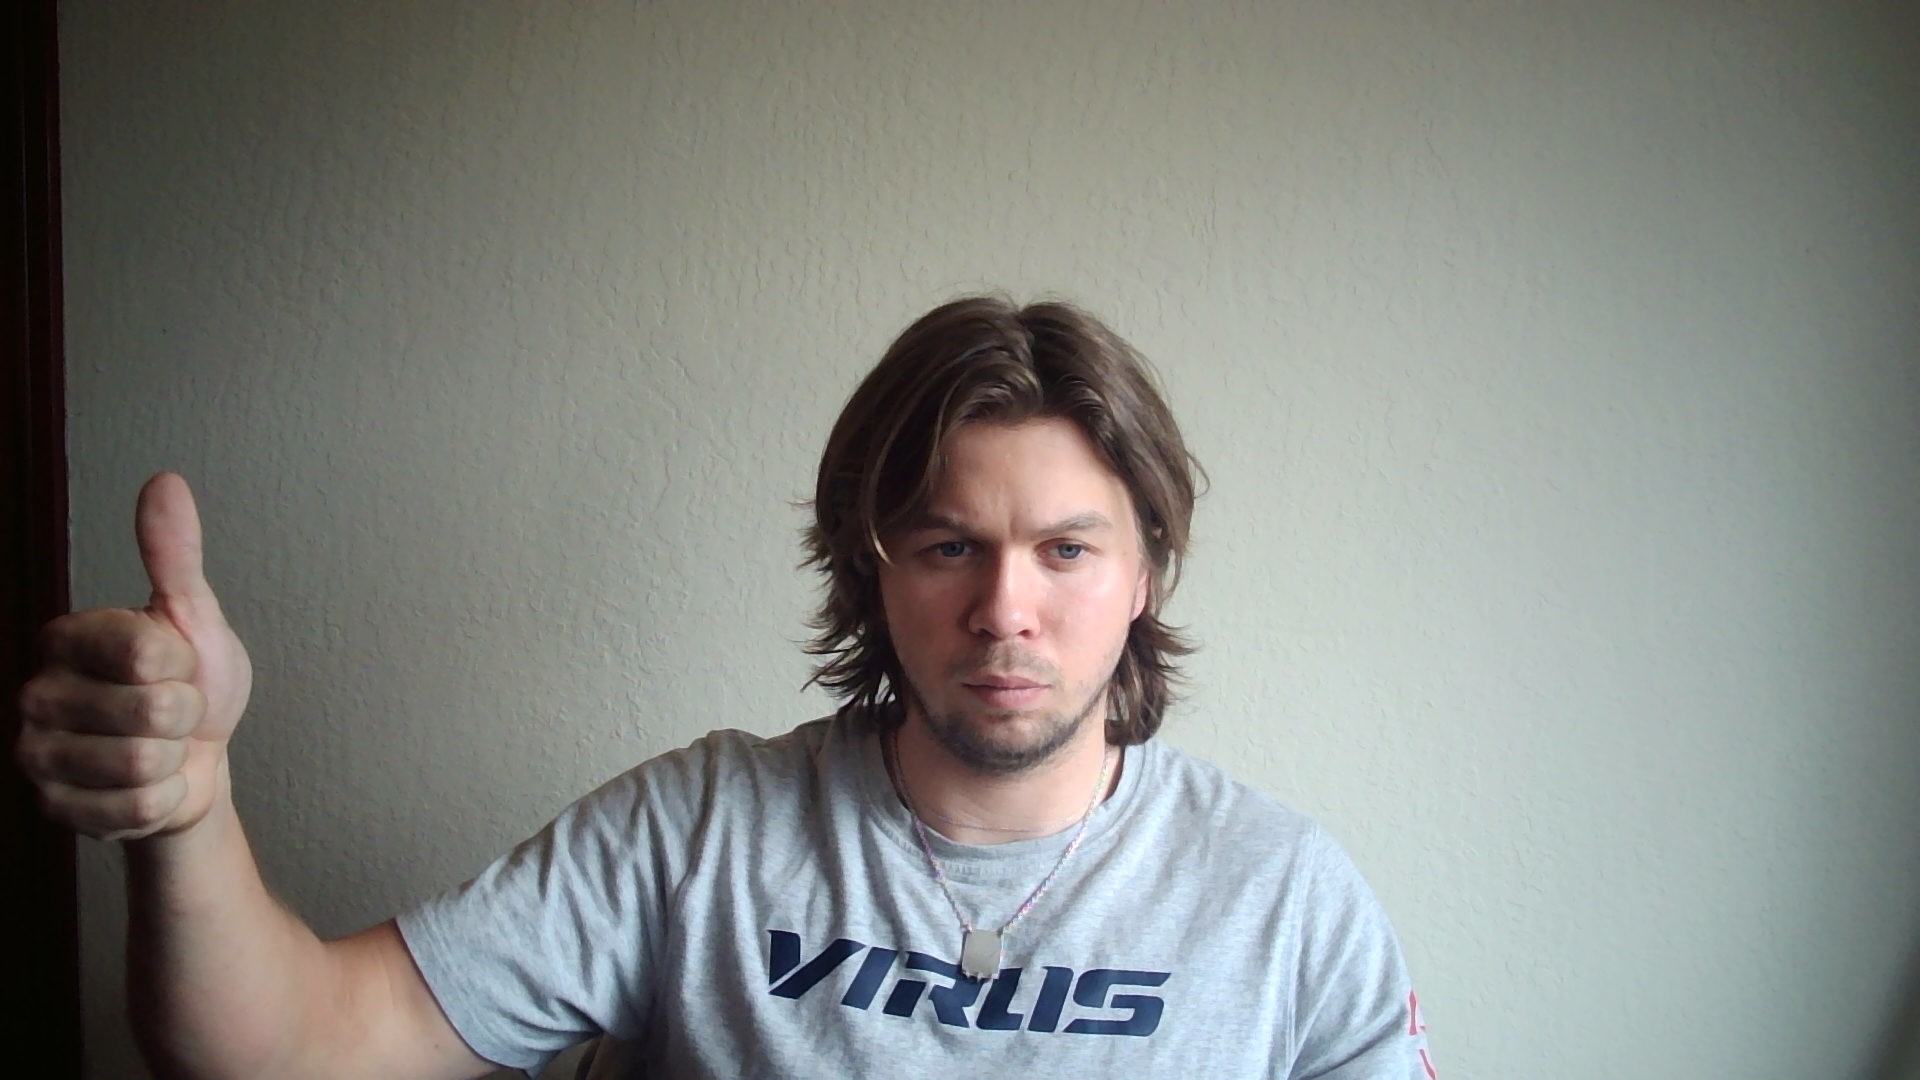good: (15, 473, 255, 841)
